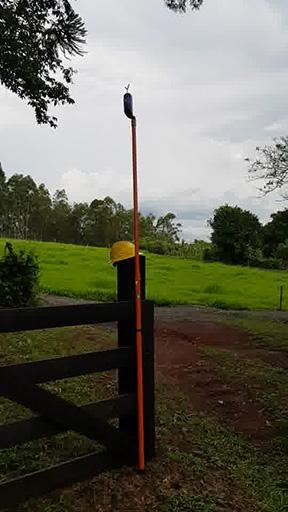Detector_Tensao_Contato: (122, 81, 134, 119)
Vara_Manobra: (128, 118, 148, 472)
